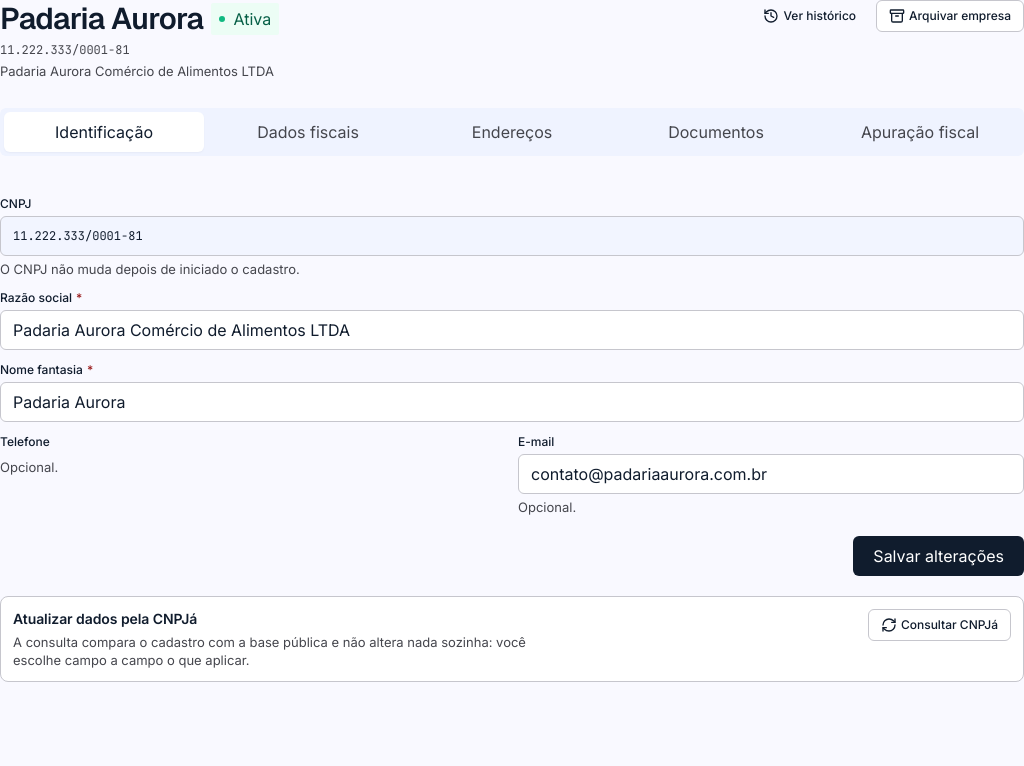
Test: atualização pela CNPJá (§3.3) › mostra as diferenças sem aplicar nada e exige seleção
The width and height of the screenshot is (1024, 766).
Click the button "Consultar CNPJá" at (939, 625), box [868,609,1011,641]
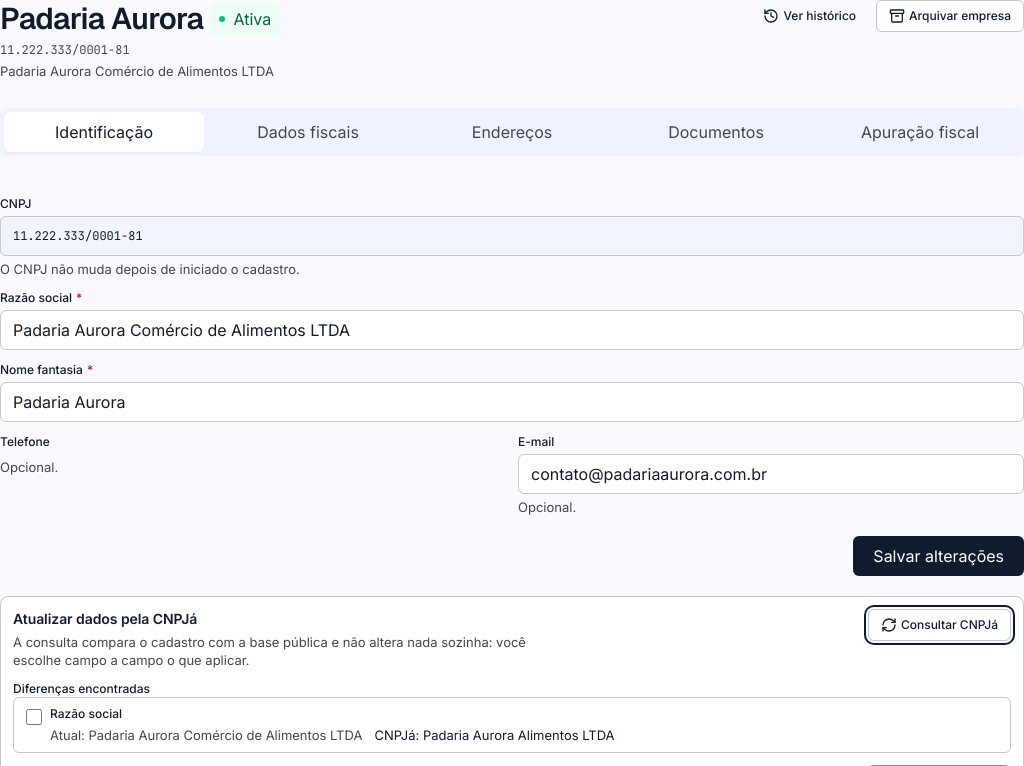
Expected: the checkbox labelled "Razão social" is shown
Expected: the text "Padaria Aurora Alimentos LTDA" is shown, [423,727,615,743]
Click the checkbox labelled "Razão social" at (34, 717), box [26,709,42,725]
(page scrolled)
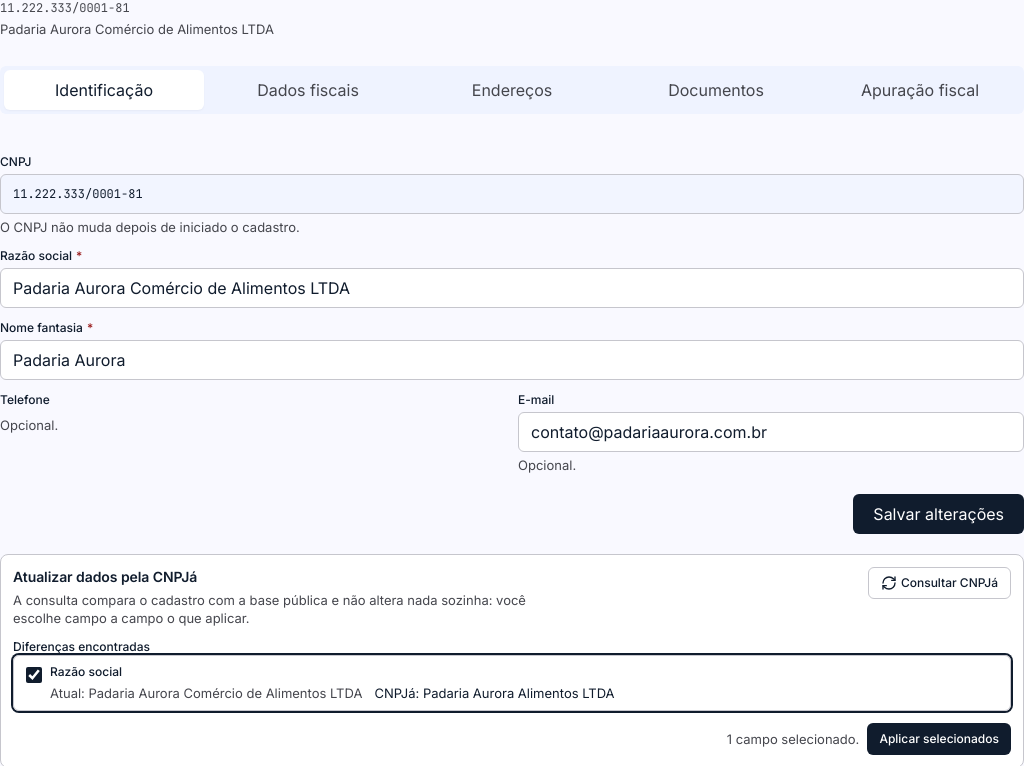
Expected: the button "Aplicar selecionados" is enabled, [867,723,1011,755]
